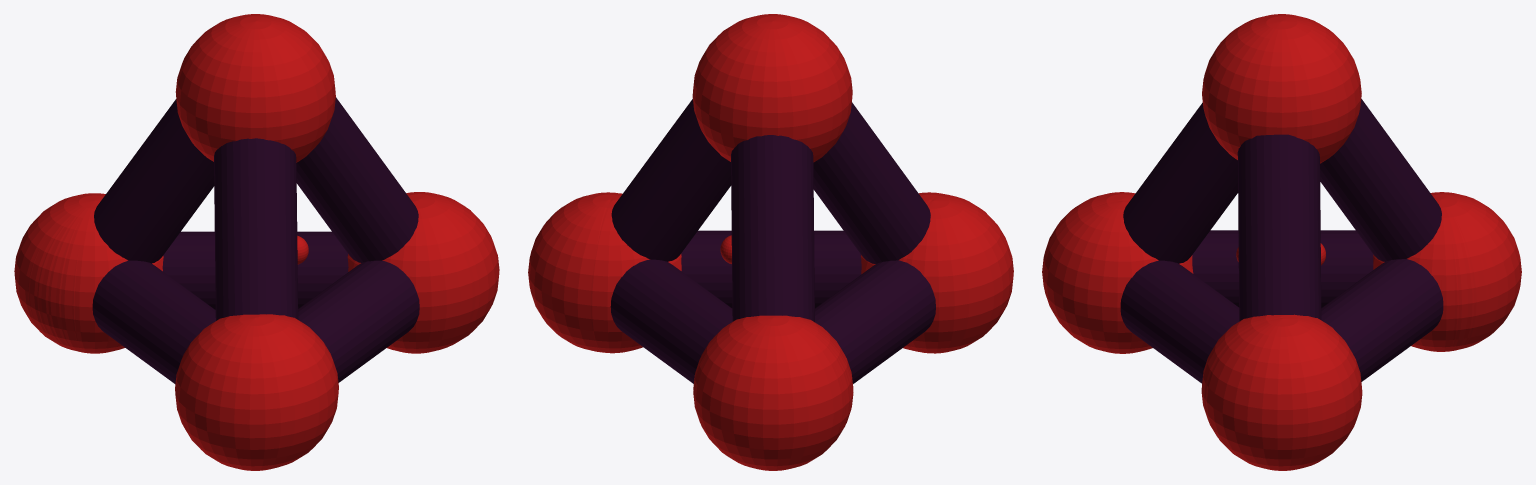
The model's file is 4DBoss.fbx.
3 views of the same model, side by side, from view 1: azimuth 30°, elevation 25°; view 2: azimuth 150°, elevation 25°; view 3: azimuth 270°, elevation 25° (orthographic).
Visible parts, largest first — view 1: Cylinder.006; view 2: Cylinder.006; view 3: Cylinder.006.
Boxes of the visible parts, x1,y1,x2,y2 form: Cylinder.006: (14, 14, 499, 470); Cylinder.006: (528, 14, 1013, 470); Cylinder.006: (1042, 14, 1521, 470).
Bounding box in the file's own units: 1202 × 1088 × 1306.
